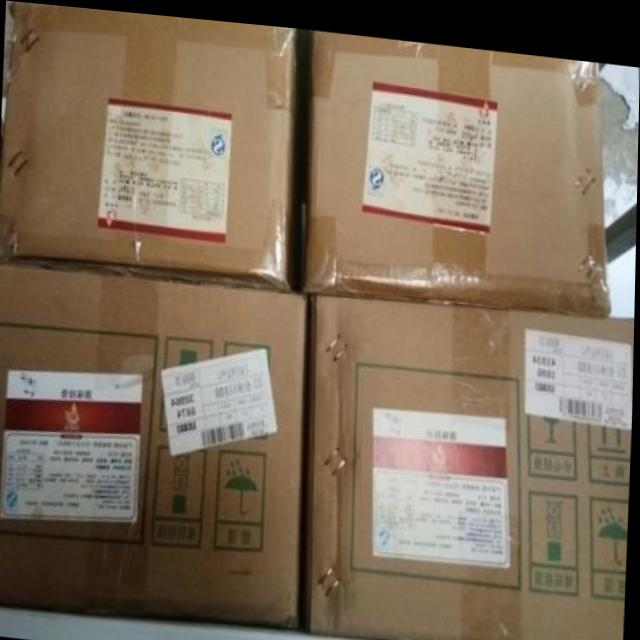box: (306, 288, 635, 640), (0, 256, 309, 626), (305, 23, 613, 306), (0, 1, 297, 283)
